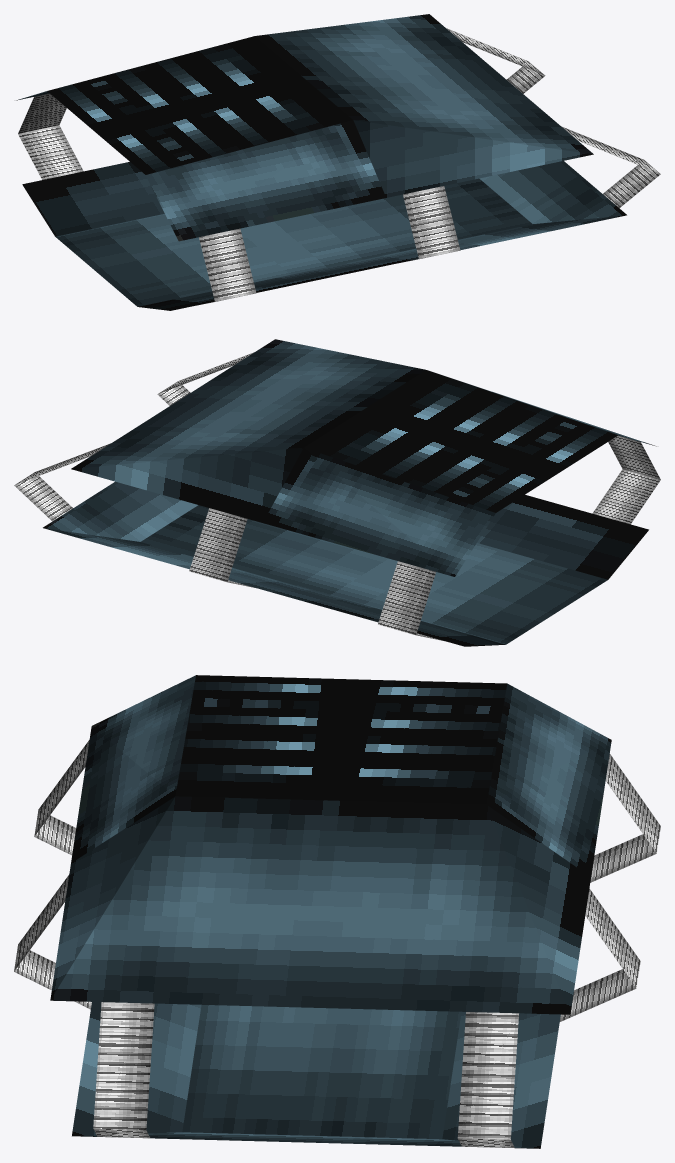
Rendered from primary_029.glb.
3 renders of one model, top to bottom at view 1: azimuth 30°, elevation 25°; view 2: azimuth 150°, elevation 25°; view 3: azimuth 270°, elevation 25°, orthographic. The views are drawn at different scales.
Parts seen in each view (by area): view 1: Object; view 2: Object; view 3: Object.
Boxes of the visible parts, <box> form: Object: <box>16,14,660,310</box>; Object: <box>14,339,660,646</box>; Object: <box>14,675,660,1148</box>.
Bounding box in the file's own units: 0.6962 × 0.2002 × 0.5561.
3 materials, 3 textured.
